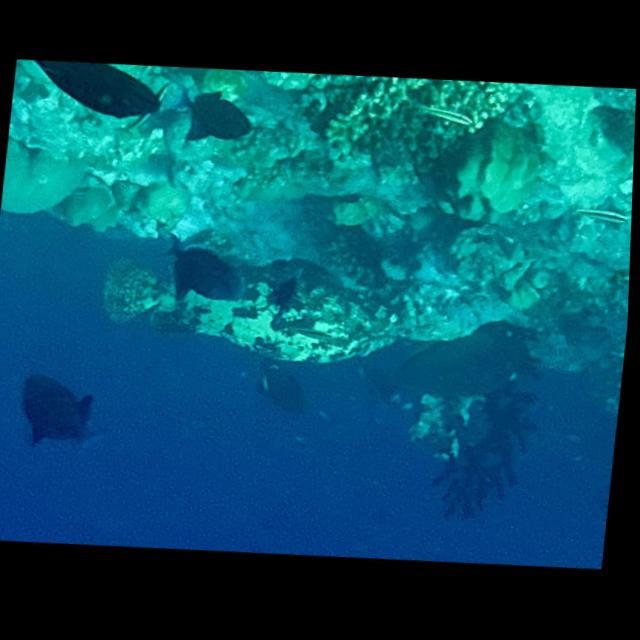Groupers: (92, 239, 400, 374)
